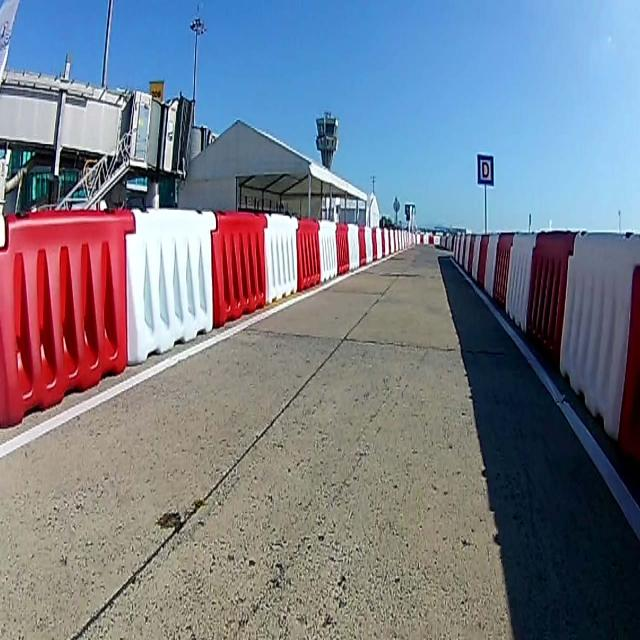durak: (479, 154, 493, 183)
